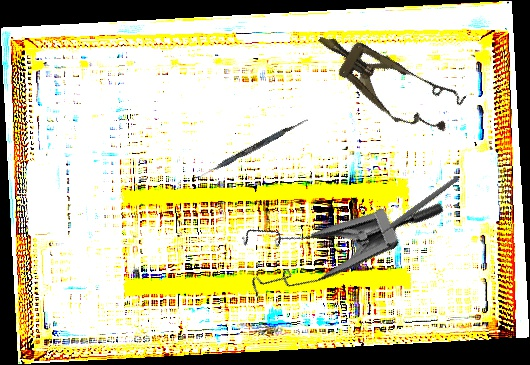Spatula Surgical: (192, 115, 309, 184)
Speculum: (222, 131, 447, 329), (303, 12, 468, 147)
Surgical Spoon: (360, 174, 460, 251)
